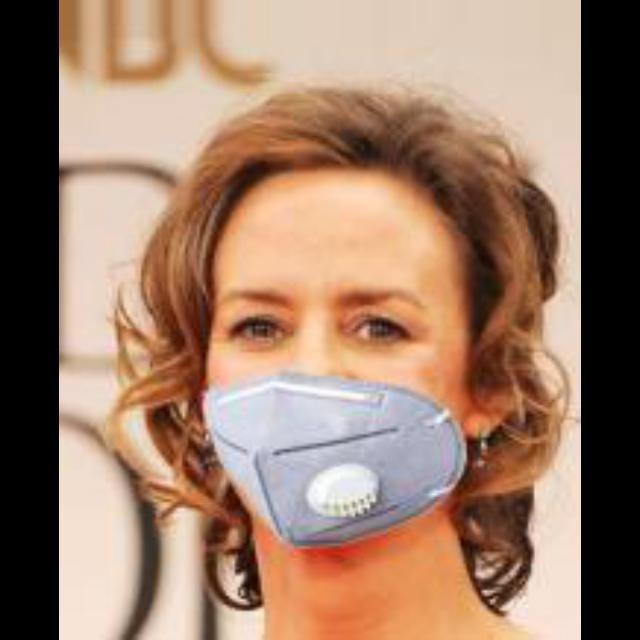1_mascarilla: (202, 369, 464, 550)
